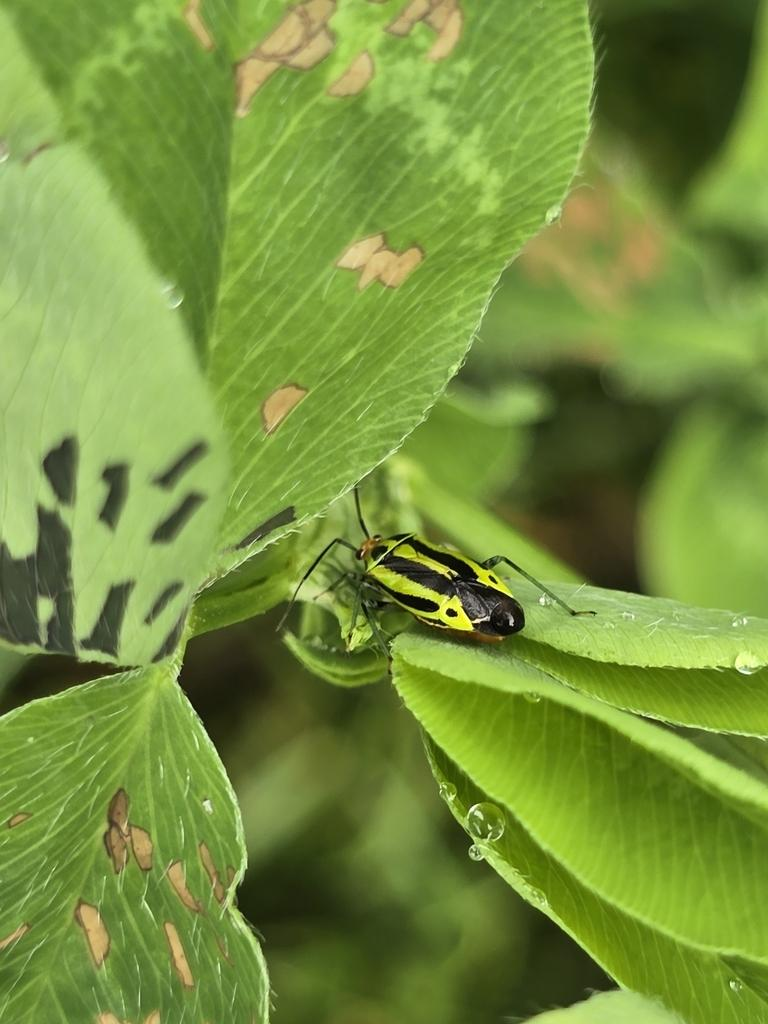plant_bugs: (261, 446, 626, 717)
